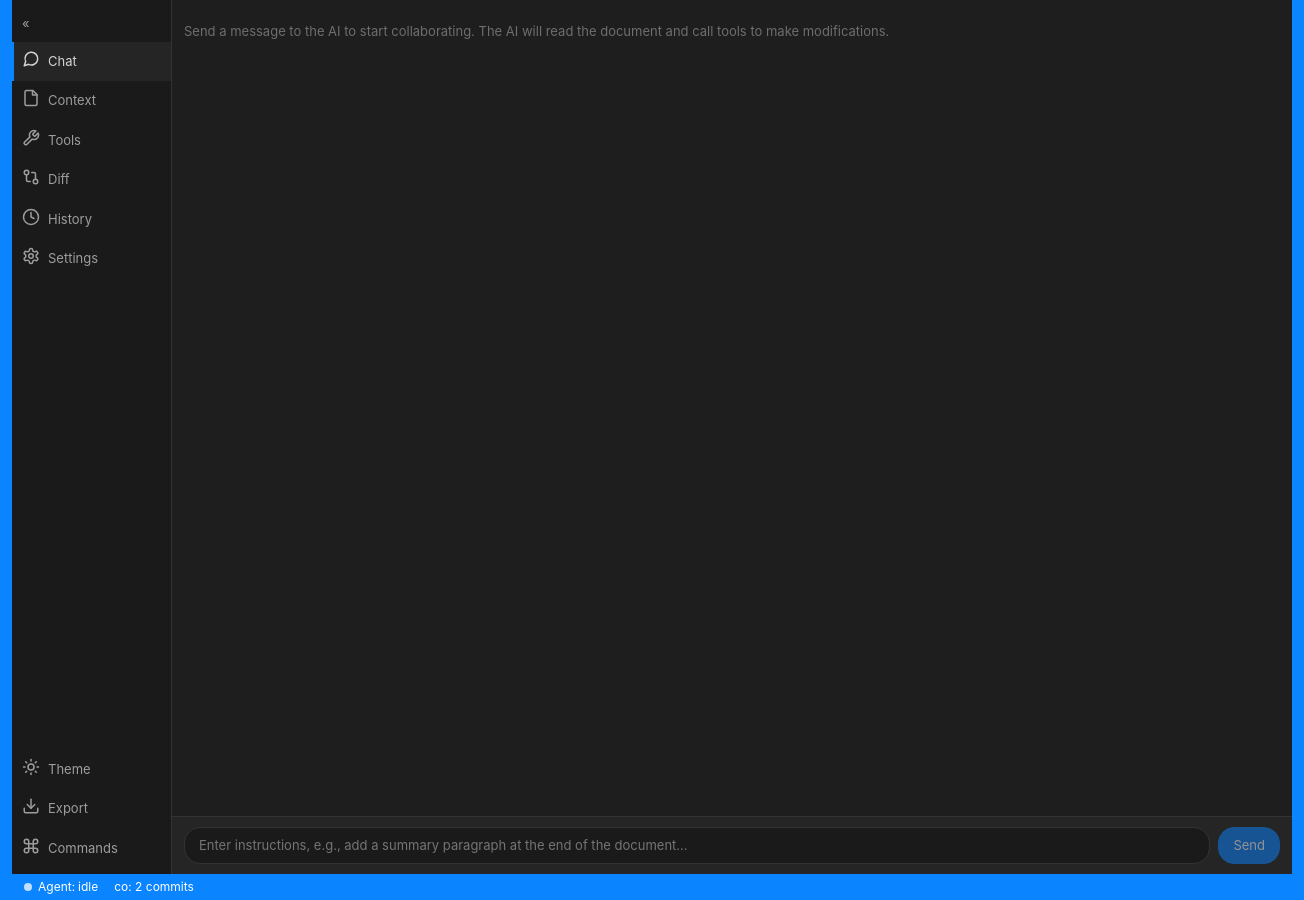
Test: Agent Deck › accepts all pending changes from the review bar
Type "Add a summary" into the field named "Message Input" at (697, 845), box [184,826,1210,864]
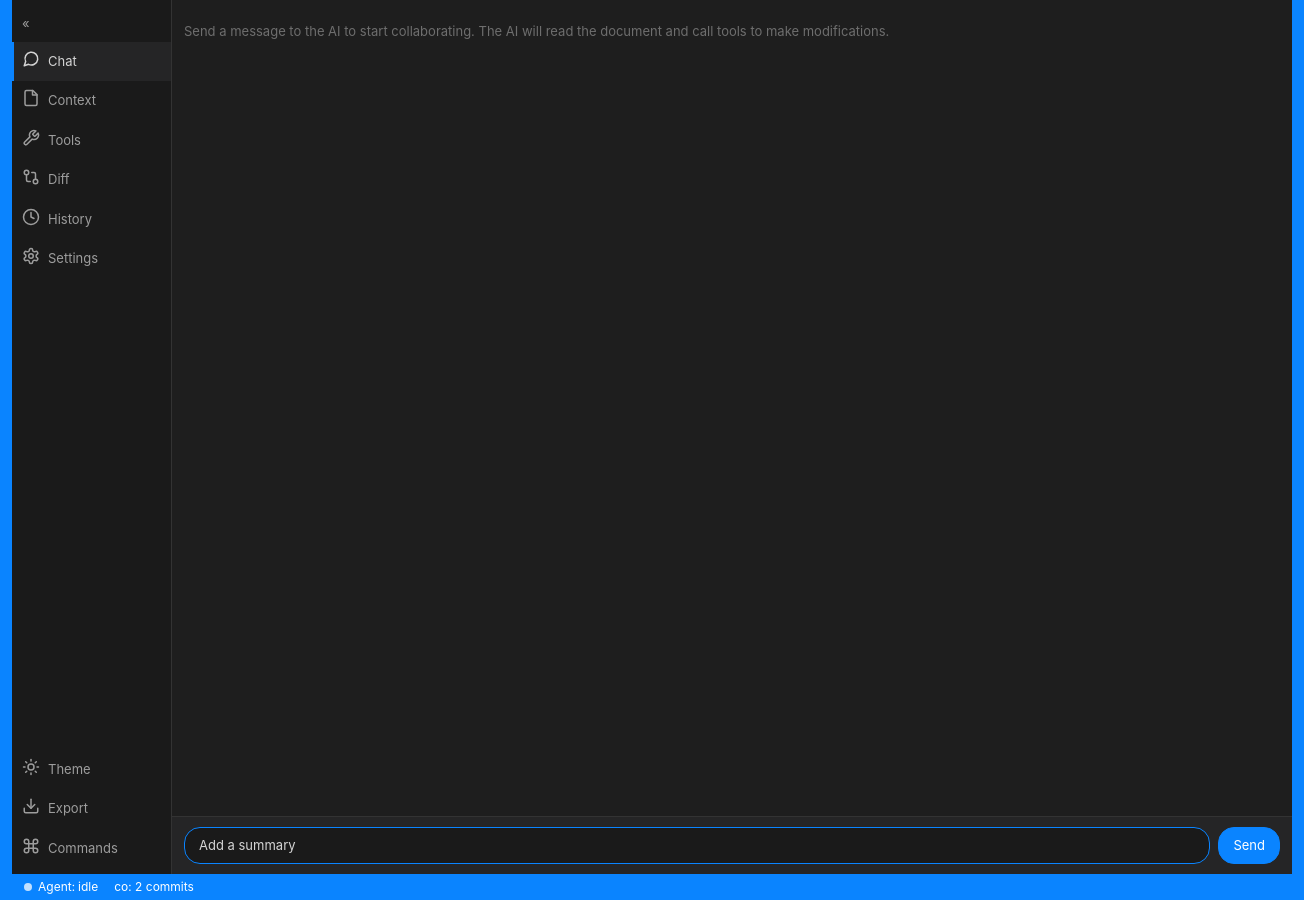
Click the button "Send" at (1249, 845), box [1218,826,1280,864]
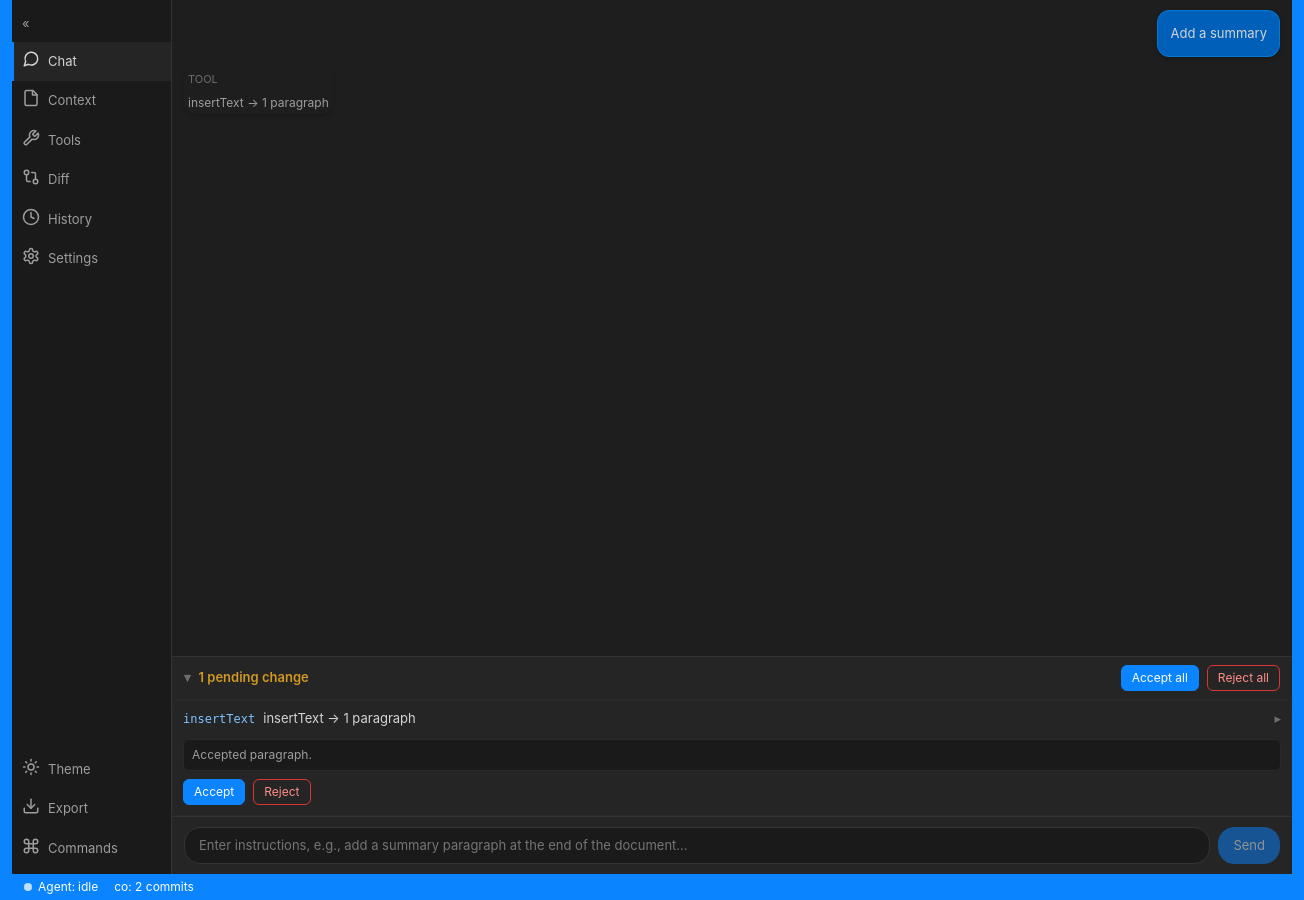
Click the button with test id "pending-accept-all" at (1160, 678), box [1121,665,1199,691]
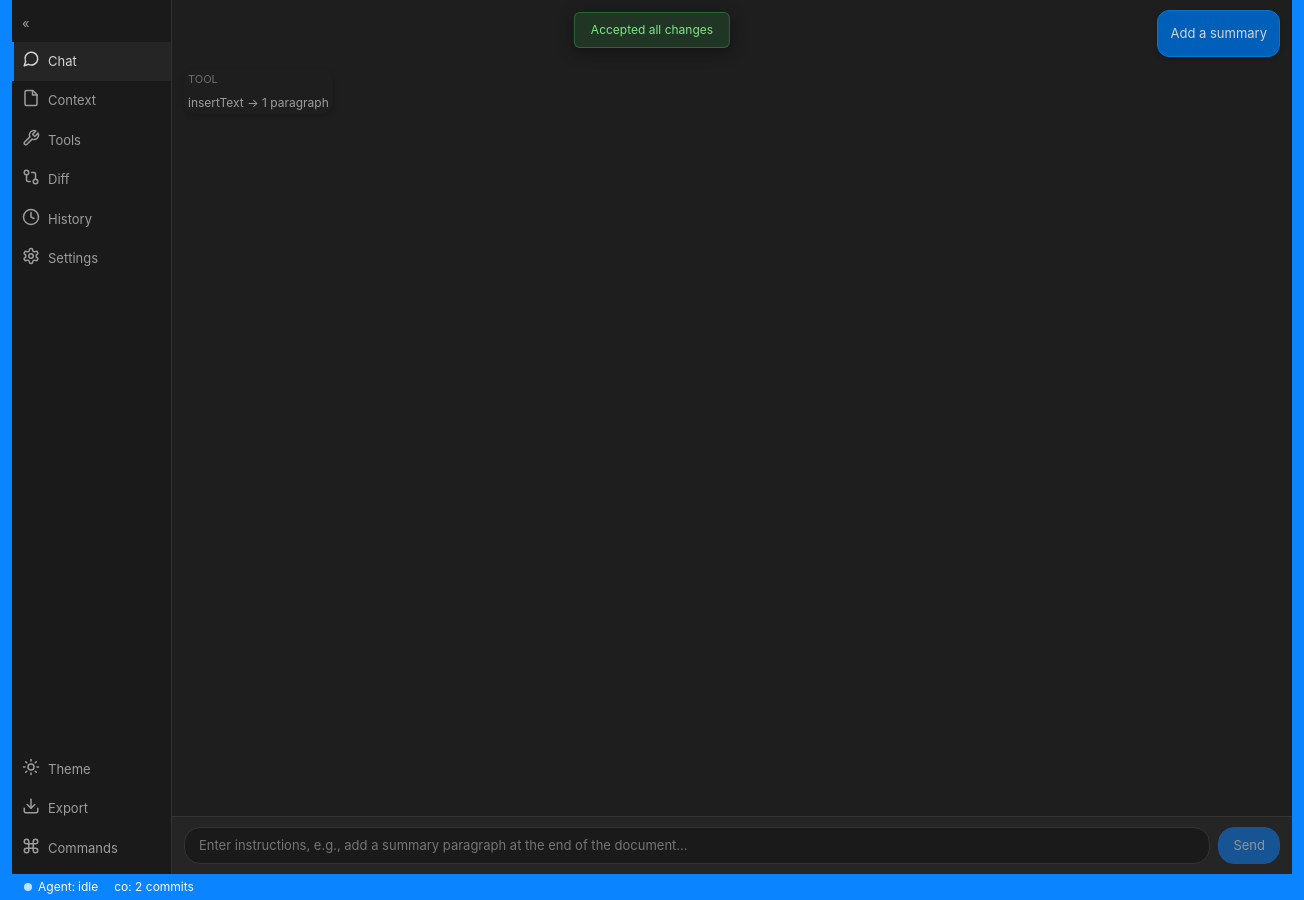
Expected: the element with test id "pending-changes" is gone
Expected: the message with test id "banner" reads "Accepted all changes", [591,22,713,37]
